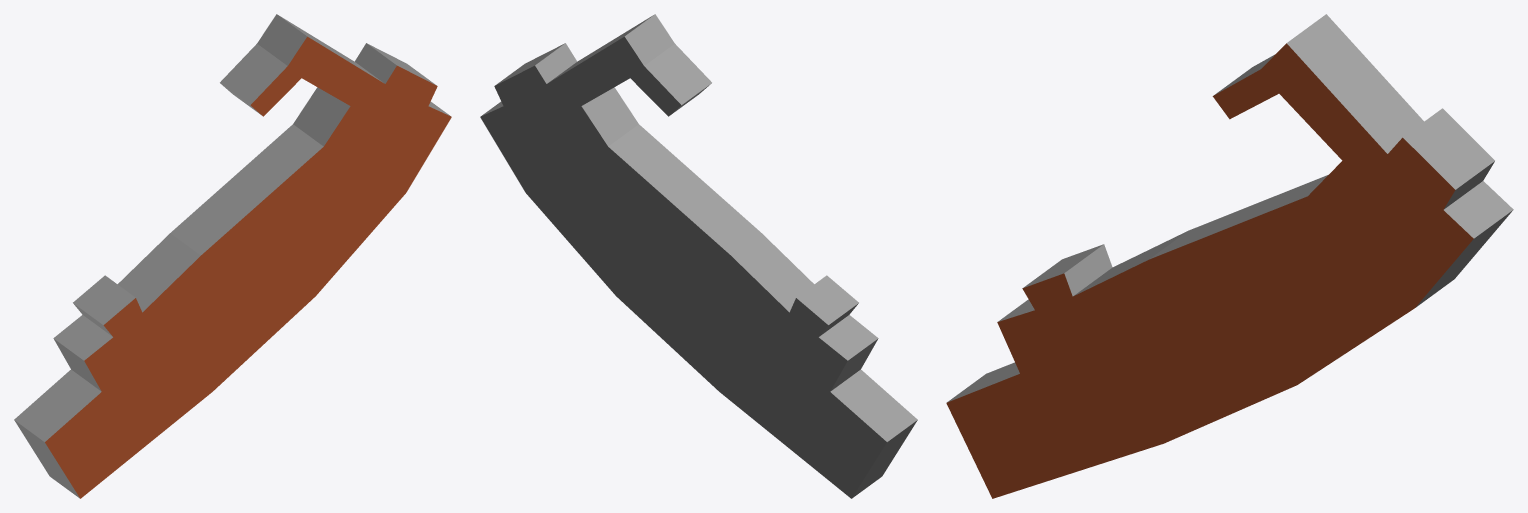
The model's file is construction_2444_assumed_A_Casa_h6m.obj.
3 renders of one model, left to right at view 1: azimuth 30°, elevation 25°; view 2: azimuth 150°, elevation 25°; view 3: azimuth 330°, elevation 25°, orthographic. The views are drawn at different scales.
Visible parts, largest first — view 1: construction_2444_assumed_A_Casa; view 2: construction_2444_assumed_A_Casa; view 3: construction_2444_assumed_A_Casa.
Part boxes in pixels (x1,y1,x2,y2): construction_2444_assumed_A_Casa: (14, 14, 451, 498); construction_2444_assumed_A_Casa: (480, 14, 917, 498); construction_2444_assumed_A_Casa: (946, 14, 1513, 498).
Size of the model in its own units: 45.85 by 43.8 by 6.
